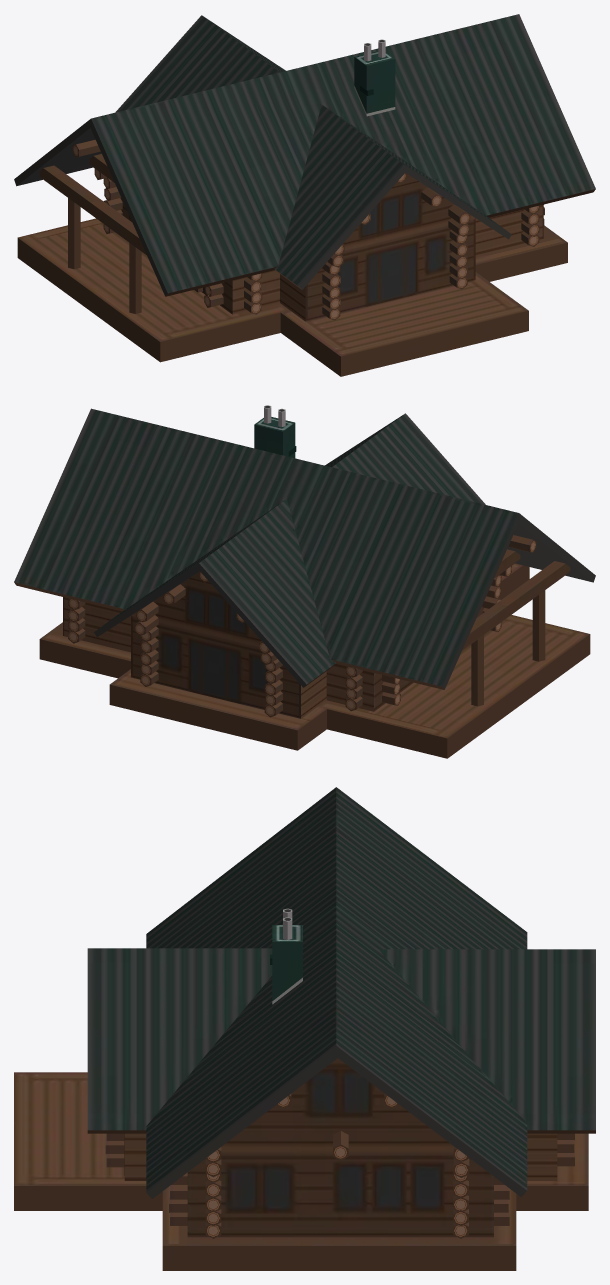
The model's file is f7uccD5iyz0.glb.
The picture shows the model from 3 angles, top to bottom: view 1: azimuth 30°, elevation 25°; view 2: azimuth 150°, elevation 25°; view 3: azimuth 270°, elevation 25°; orthographic projection. The views are drawn at different scales.
Parts seen in each view (by area): view 1: Cottage; view 2: Cottage; view 3: Cottage.
Part boxes in pixels (<box>): Cottage: <box>14,14,595,376</box>; Cottage: <box>14,405,595,758</box>; Cottage: <box>14,787,595,1270</box>.
Bounding box in the file's own units: 2.06 × 0.9999 × 1.96.
Materials: 1 (1 with a texture image).
